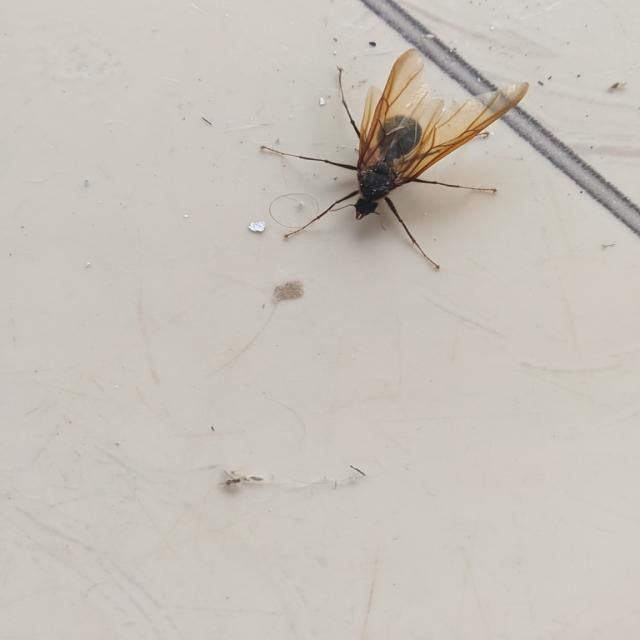Alive-Male-Alate: (259, 48, 530, 270)
